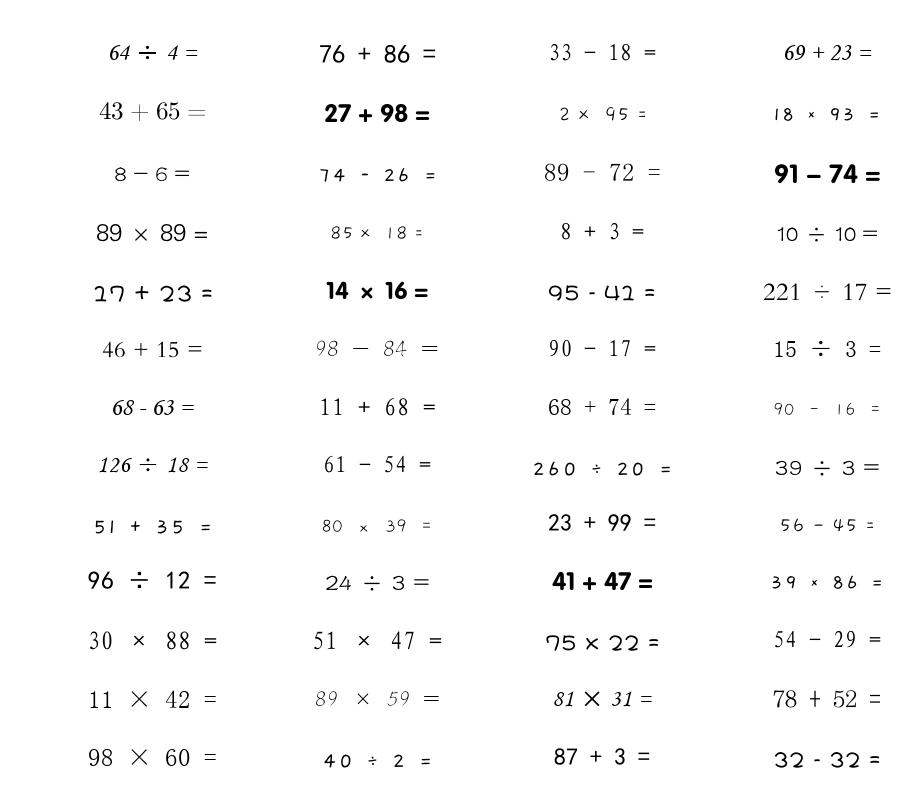MQ: (87, 631, 217, 650), (312, 631, 442, 650), (763, 283, 892, 301), (88, 571, 217, 589), (88, 690, 217, 708), (319, 44, 436, 63), (88, 749, 217, 766), (99, 102, 206, 122), (774, 164, 881, 184), (324, 103, 430, 123), (532, 461, 673, 476), (315, 340, 439, 357), (544, 163, 661, 181), (319, 398, 436, 416), (92, 285, 213, 302), (96, 224, 209, 242), (552, 571, 653, 591), (548, 43, 656, 61), (548, 339, 656, 357), (323, 455, 431, 473), (773, 630, 881, 648), (773, 690, 881, 708), (326, 281, 428, 300), (315, 691, 440, 706), (545, 635, 660, 651), (773, 340, 881, 357), (548, 398, 656, 415), (548, 514, 656, 531), (97, 457, 208, 473), (548, 285, 656, 301), (773, 752, 881, 768), (102, 341, 203, 358), (92, 520, 213, 534), (775, 460, 880, 476), (325, 575, 430, 591), (318, 168, 437, 182), (554, 748, 650, 765), (552, 691, 652, 707), (770, 575, 884, 589), (321, 519, 433, 533), (322, 754, 433, 768), (773, 402, 882, 416), (777, 227, 878, 242), (560, 222, 644, 240), (782, 45, 872, 61), (779, 518, 875, 533), (558, 106, 647, 122), (773, 108, 881, 121), (107, 45, 198, 60), (330, 226, 424, 240), (110, 400, 194, 415), (114, 167, 190, 181)
